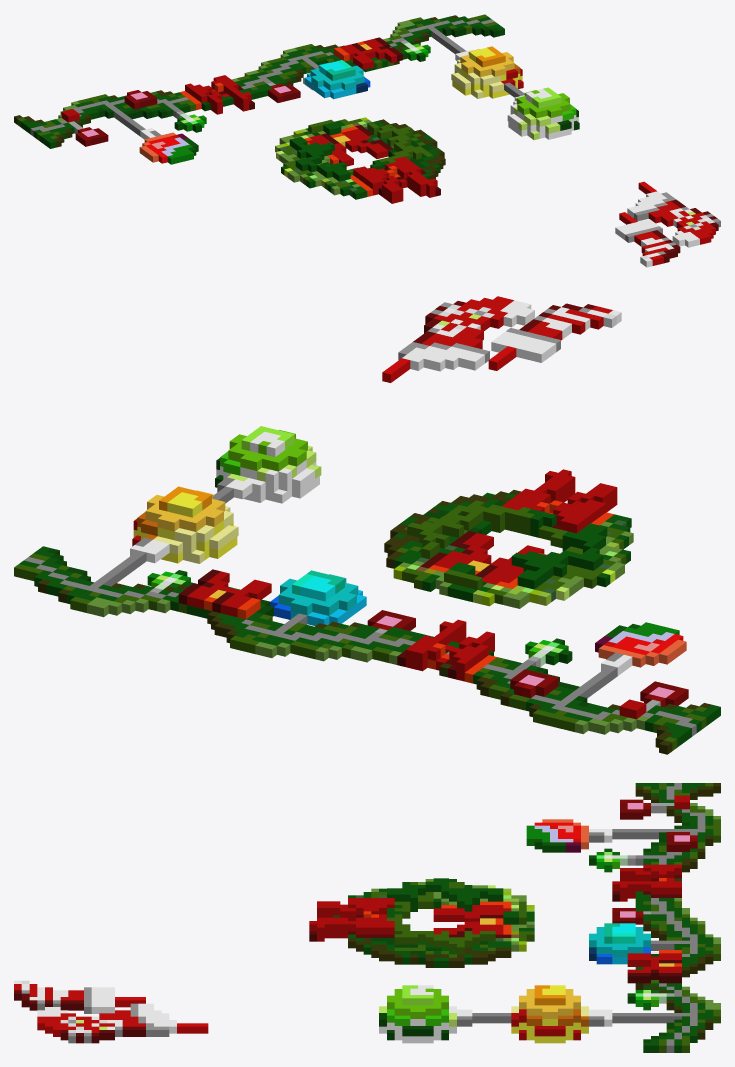
Rendered from cabin-7.obj.
3 renders of one model, top to bottom at view 1: azimuth 30°, elevation 25°; view 2: azimuth 150°, elevation 25°; view 3: azimuth 270°, elevation 25°, orthographic. The views are drawn at different scales.
Size of the model in its own units: 8 by 0.6 by 9.1.
1 material, 1 textured.
